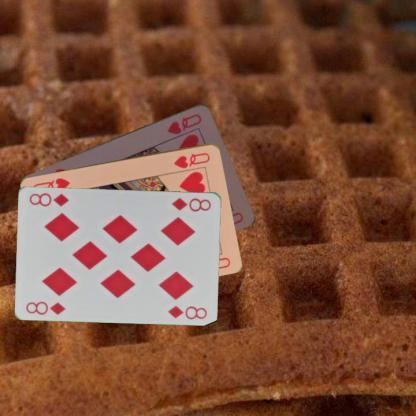8d: (24, 298, 68, 316), (170, 194, 212, 212)
Qh: (164, 110, 203, 136), (170, 150, 212, 170)
